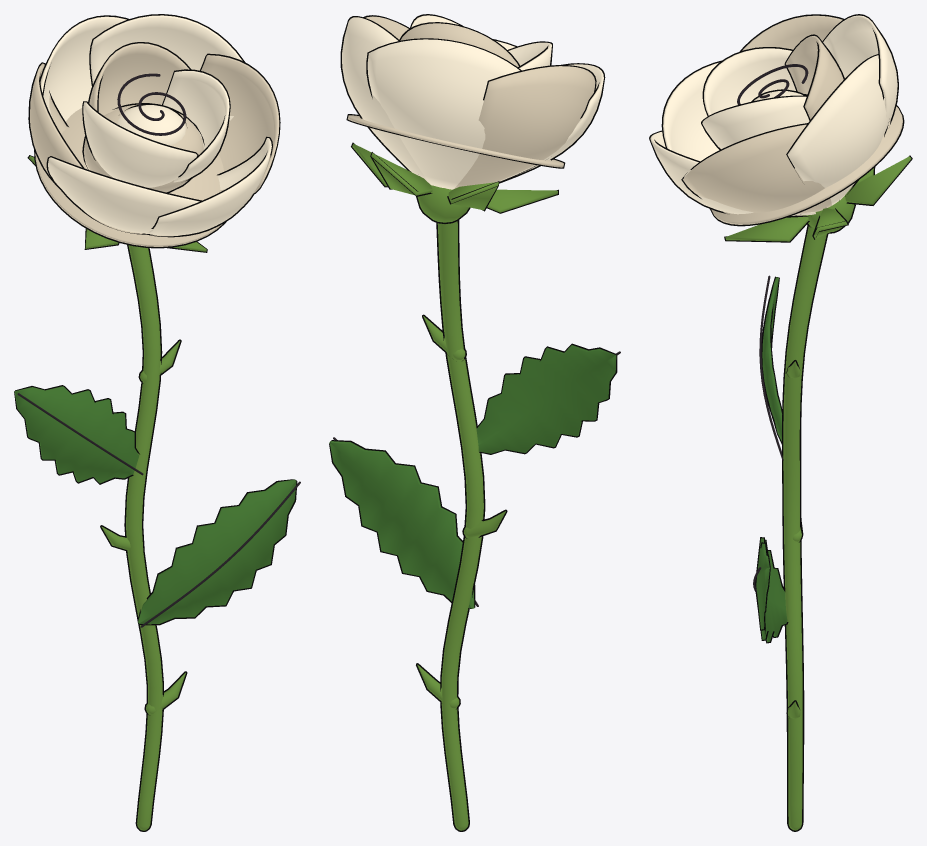
The model's file is rose_ivory.glb.
3 views of the same model, side by side, from view 1: azimuth 30°, elevation 25°; view 2: azimuth 150°, elevation 25°; view 3: azimuth 270°, elevation 25° (orthographic). The views are drawn at different scales.
Visible parts, largest first — view 1: Serrated_leaf_2, Curved_stem, Serrated_leaf_1, Outer_petal_3, Outer_petal_1, Inner_petal_2, Outer_petal_6, Closed_corolla_base, Inner_petal_3, Outer_petal_2, Inner_petal_1, Outer_petal_5 (+6 smaller); view 2: Outer_petal_5, Curved_stem, Serrated_leaf_2, Serrated_leaf_1, Outer_petal_4, Outer_petal_6, Inner_petal_3, Closed_corolla_base, Outer_petal_3, Calyx_sepal_4, Calyx_base, Calyx_sepal_2 (+4 smaller); view 3: Curved_stem, Outer_petal_6, Outer_petal_1, Inner_petal_2, Outer_petal_5, Inner_petal_1, Outer_petal_3, Inner_petal_3, Closed_corolla_base, Serrated_leaf_2, Outer_petal_4, Outer_petal_2 (+7 smaller).
Part boxes in pixels (x1,y1,x2,y2): Serrated_leaf_2: (137,479,297,625); Curved_stem: (124,245,163,831); Serrated_leaf_1: (14,385,139,484); Outer_petal_3: (46,156,201,234); Outer_petal_1: (200,53,280,195); Inner_petal_2: (82,101,198,187); Outer_petal_6: (89,14,245,121); Closed_corolla_base: (34,108,226,248); Inner_petal_3: (88,42,191,115); Outer_petal_2: (142,136,272,237); Inner_petal_1: (162,69,230,182); Outer_petal_5: (40,15,128,121); Outer_petal_5: (366,38,521,189); Curved_stem: (436,220,485,831); Serrated_leaf_2: (329,440,475,608); Serrated_leaf_1: (476,343,617,454); Outer_petal_4: (454,65,596,188); Outer_petal_6: (340,16,428,182); Inner_petal_3: (399,22,519,66); Closed_corolla_base: (346,114,565,168); Outer_petal_3: (499,63,605,183); Calyx_sepal_4: (370,152,432,196); Calyx_base: (416,185,470,223); Calyx_sepal_2: (487,189,558,213); Curved_stem: (782,224,828,831); Outer_petal_6: (786,54,889,205); Outer_petal_1: (681,123,839,215); Inner_petal_2: (702,47,795,116); Outer_petal_5: (822,14,898,186); Inner_petal_1: (701,95,809,149); Outer_petal_3: (661,60,721,161); Inner_petal_3: (784,34,844,120); Closed_corolla_base: (710,105,904,226); Serrated_leaf_2: (755,537,788,643); Outer_petal_4: (739,14,843,51); Outer_petal_2: (649,130,815,217).
Bounding box in the file's own units: 0.1925 × 0.5201 × 0.156.
